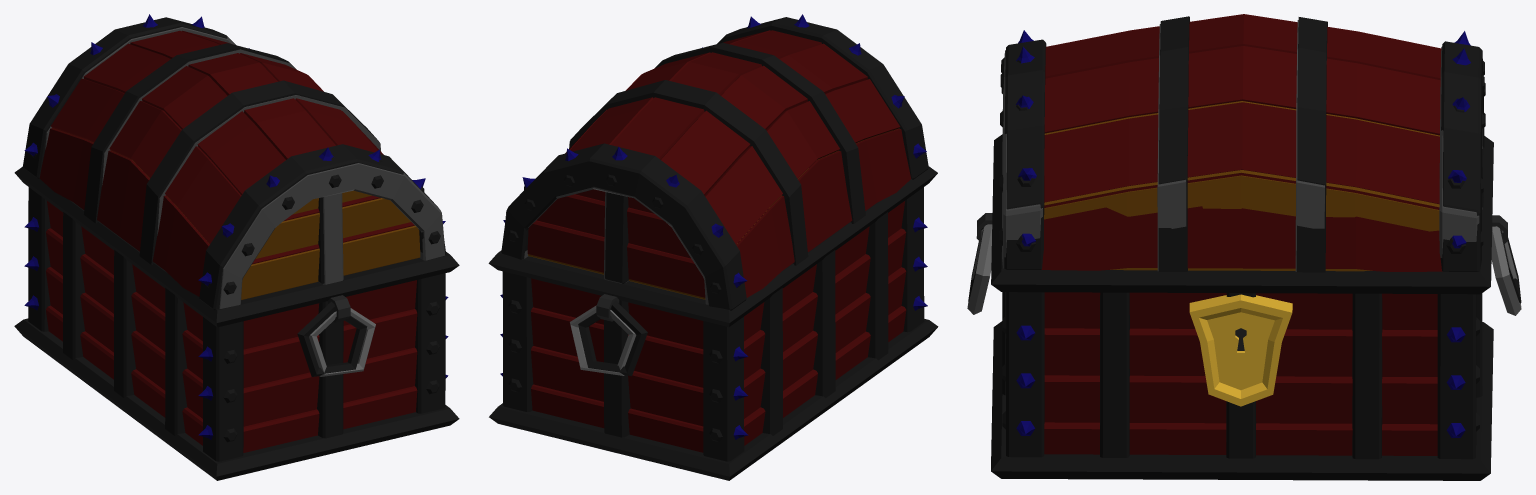
File: Chests.fbx
The picture shows the model from 3 angles, left to right: view 1: azimuth 30°, elevation 25°; view 2: azimuth 150°, elevation 25°; view 3: azimuth 270°, elevation 25°; orthographic projection. The views are drawn at different scales.
Visible parts, largest first — view 1: Chest_2_Bottom, Chest_2_Top, Chest_1_Top, Chest_2_Handle_Left, Chest_1_Handle_Left, Chest_1_Bottom; view 2: Chest_2_Top, Chest_2_Bottom, Chest_1_Top, Chest_2_Handle_Right, Chest_1_Handle_Right, Chest_1_Bottom; view 3: Chest_2_Top, Chest_2_Bottom, Chest_1_Top, Chest_1_Lock, Chest_1_Handle_Right, Chest_1_Handle_Left.
Part boxes in pixels (box(x1,y1,x2,y2)): Chest_2_Bottom: box(14, 167, 459, 480); Chest_2_Top: box(22, 14, 445, 310); Chest_1_Top: box(31, 27, 444, 308); Chest_2_Handle_Left: box(297, 301, 367, 376); Chest_1_Handle_Left: box(309, 308, 375, 376); Chest_1_Bottom: box(224, 301, 439, 442); Chest_2_Top: box(501, 14, 928, 310); Chest_2_Bottom: box(488, 166, 938, 480); Chest_1_Top: box(505, 128, 920, 304); Chest_2_Handle_Right: box(578, 300, 647, 376); Chest_1_Handle_Right: box(570, 305, 636, 375); Chest_1_Bottom: box(508, 300, 722, 442); Chest_2_Top: box(1004, 14, 1484, 272); Chest_2_Bottom: box(976, 134, 1507, 480); Chest_1_Top: box(999, 20, 1485, 271); Chest_1_Lock: box(1189, 294, 1292, 406); Chest_1_Handle_Right: box(1491, 226, 1521, 315); Chest_1_Handle_Left: box(967, 224, 992, 314).
Size of the model in its own units: 77.82 by 92.32 by 122.
